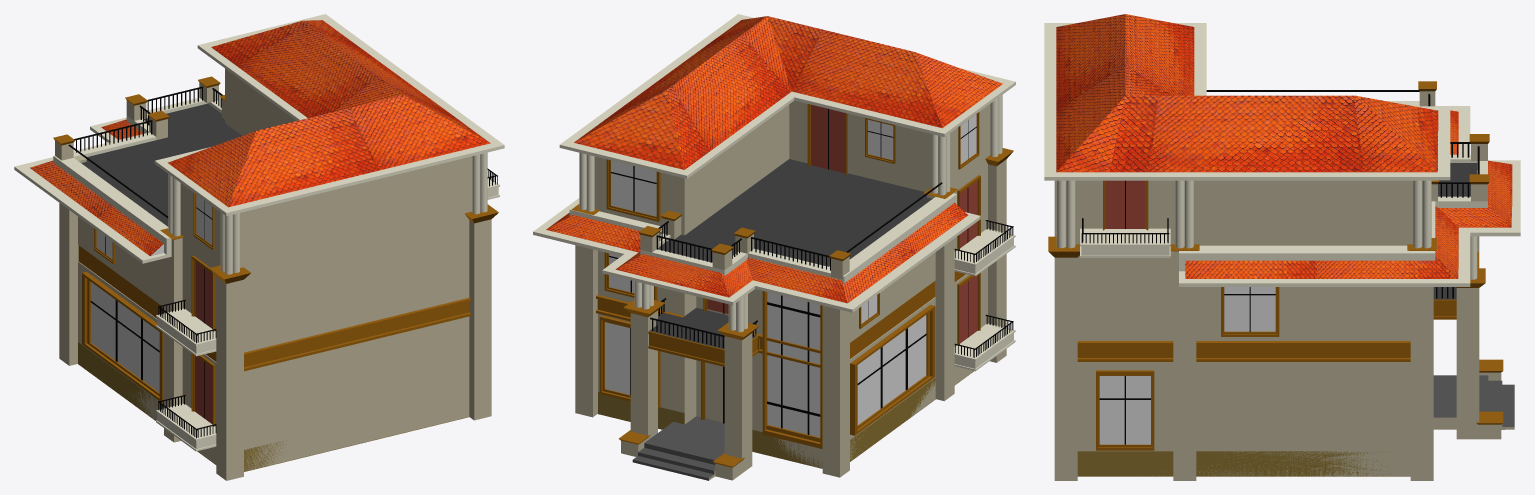
The model's file is bighouse.fbx.
The picture shows the model from 3 angles, left to right: view 1: azimuth 30°, elevation 25°; view 2: azimuth 150°, elevation 25°; view 3: azimuth 270°, elevation 25°; orthographic projection. The views are drawn at different scales.
Parts seen in each view (by area): view 1: Cube, Cube.006, Cube.004, 立方体.008, Cube.033, Cube.029, 立方体.004, 立方体.118, 立方体.042, 立方体.003, 立方体.013, 立方体.031 (+23 smaller); view 2: Cube, Cube.004, Cube.029, Cube.006, 立方体.143, 立方体.042, 立方体.118, Cube.030, 立方体.002, 立方体.001, 立方体, 立方体.003 (+46 smaller); view 3: Cube, Cube.004, Cube.006, Cube.025, Cube.033, 立方体.004, 立方体.009, 立方体.002, 立方体.030, 立方体, 立方体.111, 立方体.014 (+24 smaller).
Part boxes in pixels (box(x1,y1,x2,y2)): Cube: box(78, 68, 472, 471); Cube.006: box(167, 95, 490, 207); Cube.004: box(211, 20, 466, 125); 立方体.008: box(216, 277, 243, 480); Cube.033: box(78, 245, 470, 371); Cube.029: box(81, 124, 241, 226); 立方体.004: box(469, 219, 491, 420); 立方体.118: box(91, 282, 159, 392); 立方体.042: box(59, 155, 86, 365); 立方体.003: box(164, 238, 182, 442); 立方体.013: box(218, 144, 504, 216); 立方体.031: box(56, 158, 171, 256); Cube: box(594, 100, 990, 480); Cube.004: box(574, 16, 791, 169); Cube.029: box(685, 159, 932, 266); Cube.006: box(719, 16, 1002, 128); 立方体.143: box(767, 292, 820, 437); 立方体.042: box(822, 266, 849, 477); 立方体.118: box(857, 315, 926, 424); Cube.030: box(632, 416, 724, 480); 立方体.002: box(575, 245, 597, 417); 立方体.001: box(724, 333, 752, 472); 立方体: box(630, 310, 657, 439); 立方体.003: box(927, 192, 954, 401); Cube: box(1075, 180, 1514, 476); Cube.004: box(1110, 95, 1438, 172); Cube.006: box(1056, 14, 1194, 172); Cube.025: box(1077, 451, 1410, 476); Cube.033: box(1077, 343, 1410, 361); 立方体.004: box(1054, 257, 1077, 480); 立方体.009: box(1173, 251, 1196, 480); 立方体.002: box(1410, 287, 1433, 480); 立方体.030: box(1179, 245, 1435, 270); 立方体: box(1456, 288, 1479, 439); 立方体.111: box(1099, 376, 1150, 444); 立方体.014: box(1047, 169, 1436, 180).
Size of the model in its own units: 1044 by 974 by 1186.
11 materials, 1 textured.
